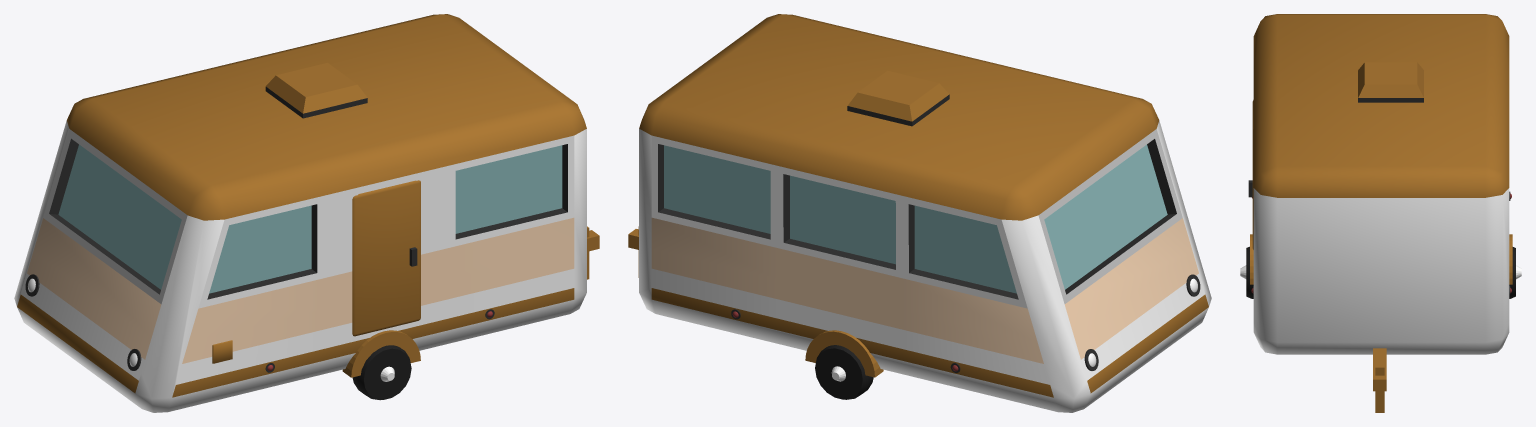
Rendered from caravan.gltf.
The picture shows the model from 3 angles, left to right: view 1: azimuth 30°, elevation 25°; view 2: azimuth 150°, elevation 25°; view 3: azimuth 270°, elevation 25°; orthographic projection. The views are drawn at different scales.
Visible parts, largest first — view 1: ChamferBox001; view 2: ChamferBox001; view 3: ChamferBox001.
Boxes of the visible parts, x1=… form: ChamferBox001: x1=14, y1=14, x2=599, y2=412; ChamferBox001: x1=628, y1=14, x2=1211, y2=412; ChamferBox001: x1=1240, y1=14, x2=1521, y2=412.
Bounding box in the file's own units: 80.09 × 38.91 × 42.75.
